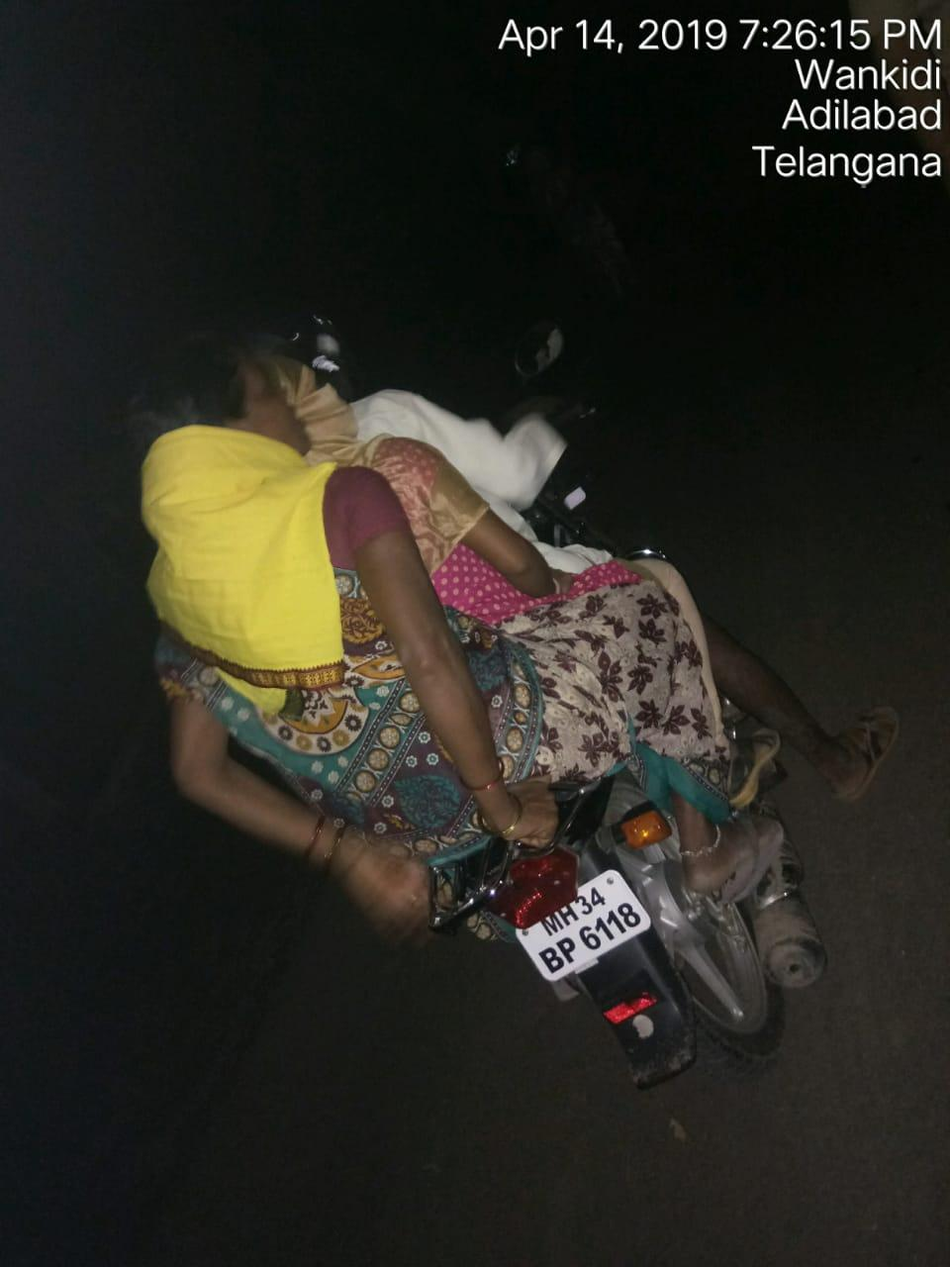plate: (500, 859, 679, 992)
